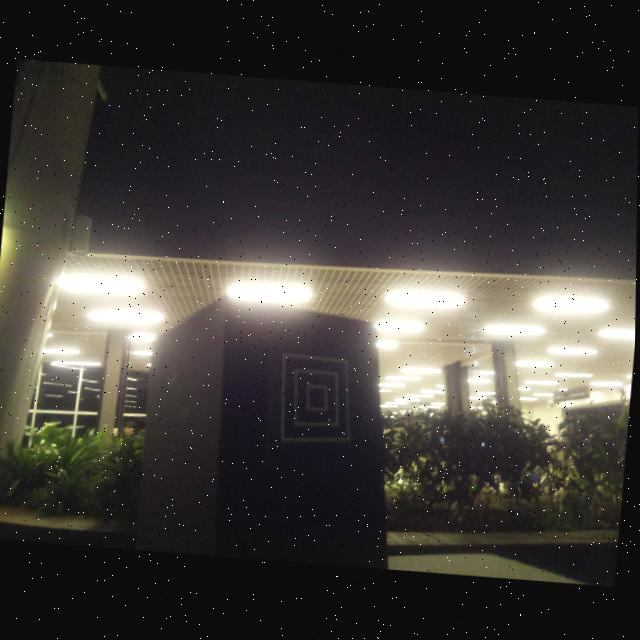BULLSEYE: (283, 354, 351, 442)
